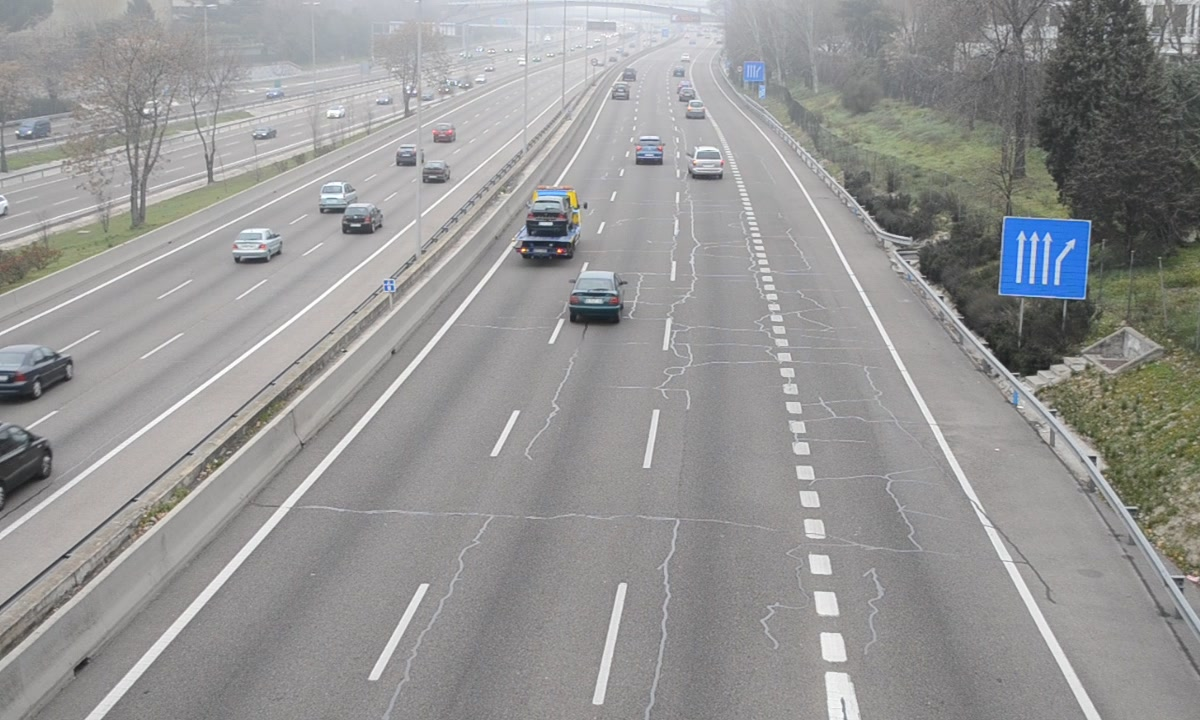car: (568, 271, 623, 317), (687, 147, 726, 179), (634, 136, 665, 165)
small-truck: (515, 188, 583, 261)
